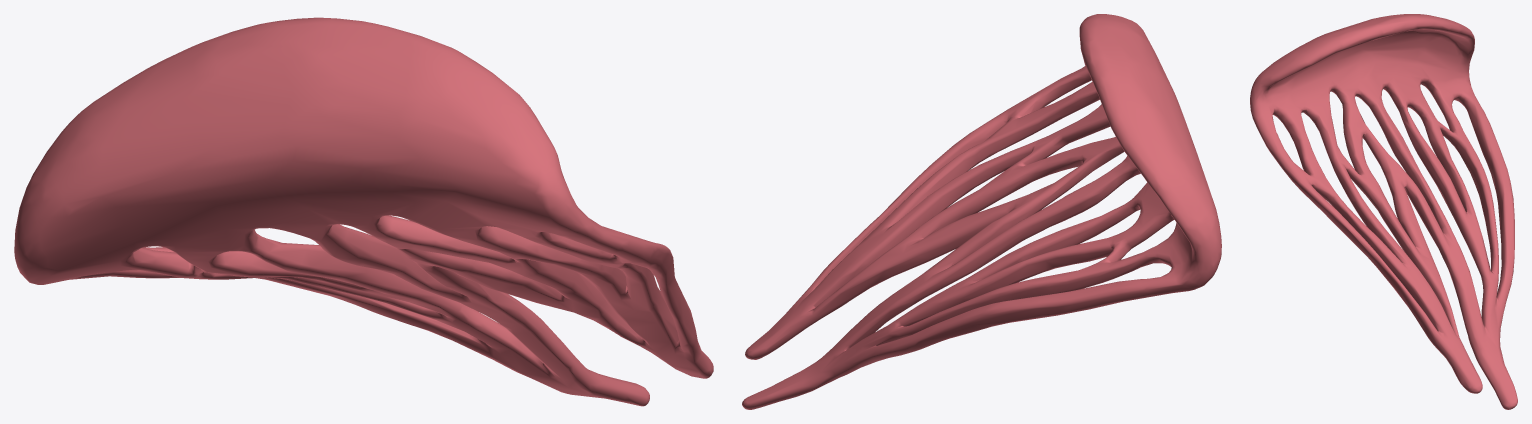
3 renders of one model, left to right at view 1: azimuth 30°, elevation 25°; view 2: azimuth 150°, elevation 25°; view 3: azimuth 270°, elevation 25°, orthographic. The views are drawn at different scales.
Parts seen in each view (by area): view 1: 二尖瓣后尖; view 2: 二尖瓣后尖; view 3: 二尖瓣后尖.
Boxes of the visible parts, x1,y1,x2,y2 form: 二尖瓣后尖: (14,17,713,406); 二尖瓣后尖: (742,14,1221,409); 二尖瓣后尖: (1250,14,1517,409).
Bounding box in the file's own units: 0.0751 × 0.0577 × 0.0489.
